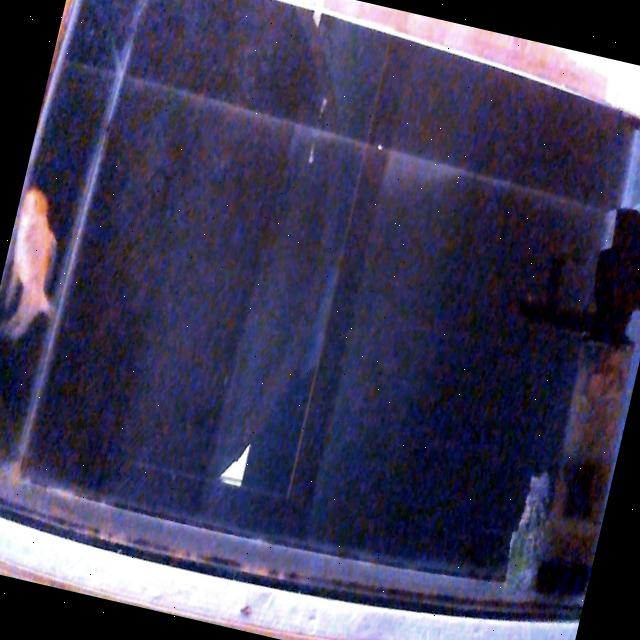fish: (0, 184, 78, 347)
